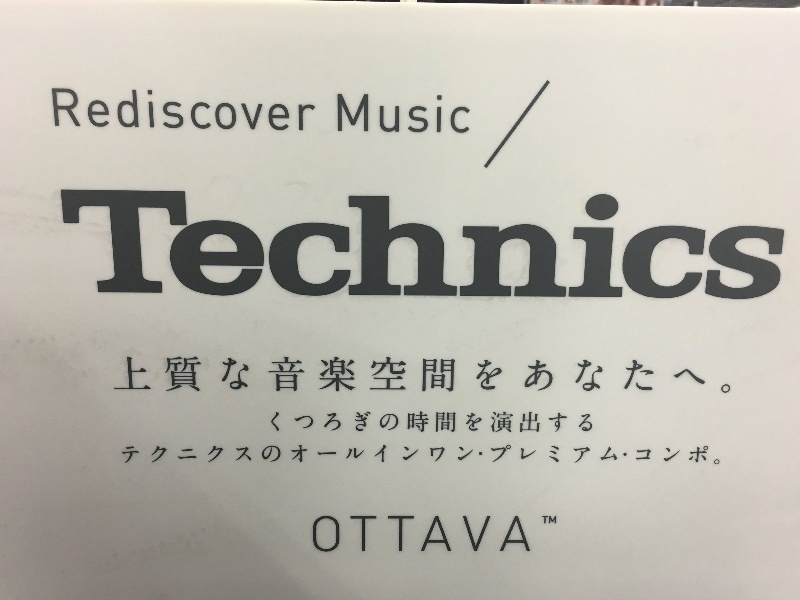text: (65, 188, 80, 303), (81, 188, 96, 303), (97, 188, 112, 303), (113, 188, 128, 303), (129, 188, 144, 303), (145, 188, 160, 303), (161, 188, 176, 303), (177, 188, 192, 303), (193, 188, 208, 303), (209, 188, 224, 303), (225, 188, 240, 303), (241, 188, 256, 303), (257, 188, 272, 303), (273, 188, 288, 303), (289, 188, 304, 303), (305, 188, 320, 303), (321, 188, 336, 303), (337, 188, 352, 303), (353, 188, 368, 303), (369, 188, 384, 303), (385, 188, 400, 303), (401, 188, 416, 303), (417, 188, 432, 303), (433, 188, 448, 303), (449, 188, 464, 303), (465, 188, 480, 303), (481, 188, 496, 303), (497, 188, 512, 303), (513, 188, 528, 303), (529, 188, 544, 303), (545, 188, 560, 303), (561, 188, 576, 303), (577, 188, 592, 303), (593, 188, 608, 303), (609, 188, 624, 303), (625, 188, 640, 303), (641, 188, 656, 303), (657, 188, 672, 303), (673, 188, 688, 303), (689, 188, 704, 303), (705, 188, 720, 303), (721, 188, 736, 303), (737, 188, 752, 303), (753, 188, 768, 303), (769, 188, 784, 303), (65, 87, 80, 133), (81, 87, 96, 133), (97, 87, 112, 133), (113, 87, 128, 133), (129, 87, 144, 133), (145, 87, 160, 133), (161, 87, 176, 133), (177, 87, 192, 133), (193, 87, 208, 133), (209, 87, 224, 133), (225, 87, 240, 133), (241, 87, 256, 133), (257, 87, 272, 133), (273, 87, 288, 133), (289, 87, 304, 133), (321, 510, 336, 554), (337, 510, 352, 554), (353, 510, 368, 554), (369, 510, 384, 554), (385, 510, 400, 554), (401, 510, 416, 554), (417, 510, 432, 554), (433, 510, 448, 554), (449, 510, 464, 554), (465, 510, 480, 554), (481, 510, 496, 554), (497, 510, 512, 554), (513, 510, 528, 554), (353, 94, 368, 136), (369, 94, 384, 136), (385, 94, 400, 136), (401, 94, 416, 136), (417, 94, 432, 136), (433, 94, 448, 136), (449, 94, 464, 136), (113, 354, 128, 395), (129, 354, 144, 395), (145, 354, 160, 395), (161, 354, 176, 395), (177, 354, 192, 395), (193, 354, 208, 395), (209, 354, 224, 395), (225, 354, 240, 395), (241, 354, 256, 395), (257, 354, 272, 395), (273, 354, 288, 395), (289, 354, 304, 395), (305, 354, 320, 395), (321, 354, 336, 395), (337, 354, 352, 395), (353, 354, 368, 395), (369, 354, 384, 395), (385, 354, 400, 395), (401, 354, 416, 395), (417, 354, 432, 395), (433, 354, 448, 395), (449, 354, 464, 395), (465, 354, 480, 395), (481, 354, 496, 395), (497, 354, 512, 395), (513, 354, 528, 395), (529, 354, 544, 395), (545, 354, 560, 395), (561, 354, 576, 395), (577, 354, 592, 395), (593, 354, 608, 395), (609, 354, 624, 395), (625, 354, 640, 395), (641, 354, 656, 395), (657, 354, 672, 395), (673, 354, 688, 395), (689, 354, 704, 395), (705, 354, 720, 395), (51, 87, 64, 133), (338, 94, 352, 136), (59, 188, 64, 303), (305, 87, 317, 133), (721, 354, 733, 395), (273, 411, 288, 436), (289, 411, 304, 436), (305, 411, 320, 436), (321, 411, 336, 436), (337, 411, 352, 436), (353, 411, 368, 436), (369, 411, 384, 436), (385, 411, 400, 436), (401, 411, 416, 436), (417, 411, 432, 436), (433, 411, 448, 436), (449, 411, 464, 436), (465, 411, 480, 436), (481, 411, 496, 436), (497, 411, 512, 436), (513, 411, 528, 436), (529, 411, 544, 436), (545, 411, 560, 436), (561, 411, 576, 436), (577, 411, 592, 436), (705, 447, 721, 469), (312, 510, 320, 554), (641, 447, 656, 469), (657, 447, 672, 469), (673, 447, 688, 469), (689, 447, 704, 469), (129, 445, 144, 466), (145, 445, 160, 466), (161, 445, 176, 466), (177, 445, 192, 466), (193, 445, 208, 466), (209, 445, 224, 466), (225, 445, 240, 466), (241, 445, 256, 466), (257, 445, 272, 466), (273, 445, 288, 466), (289, 445, 304, 466), (305, 445, 320, 466), (321, 445, 336, 466), (337, 445, 352, 466), (353, 445, 368, 466), (369, 445, 384, 466), (385, 445, 400, 466), (401, 445, 416, 466), (417, 445, 432, 466), (433, 445, 448, 466), (449, 445, 464, 466), (497, 443, 512, 463), (513, 443, 528, 463), (529, 443, 544, 463), (545, 443, 560, 463), (561, 443, 576, 463), (577, 443, 592, 463), (593, 443, 608, 463), (465, 94, 472, 136), (785, 188, 787, 303), (609, 443, 620, 463), (465, 445, 475, 466), (121, 445, 128, 466), (545, 516, 559, 526), (529, 510, 531, 554), (269, 411, 272, 436), (493, 443, 496, 463), (638, 447, 640, 469), (111, 354, 112, 395), (540, 516, 544, 526), (593, 411, 594, 436)
